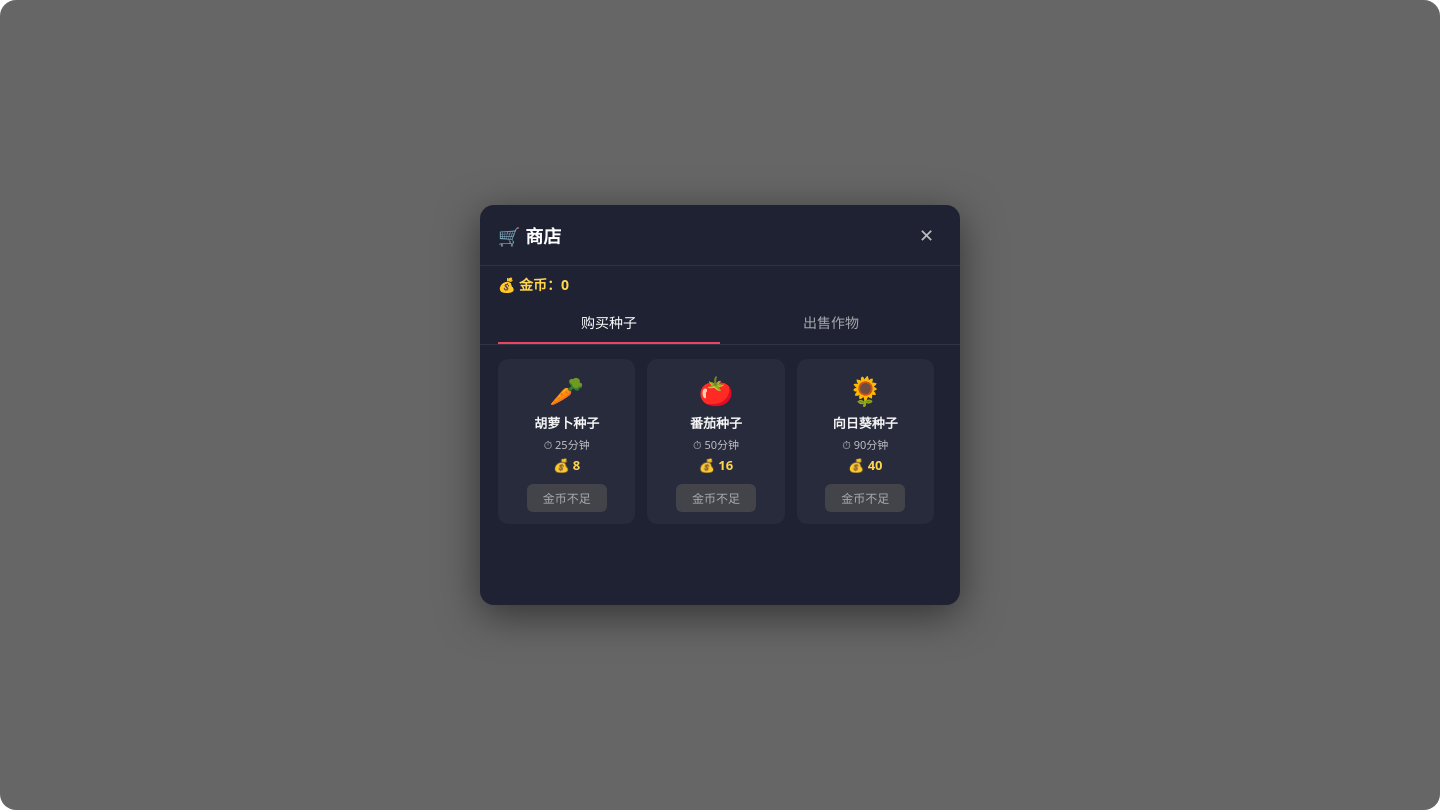
GardenShop.vue › 出售 tab 应列出拥有的作物
This screenshot has width=1440, height=810.
Click the button with class "shop-tab" showing "出售作物" at [831, 323], box [720, 302, 942, 344]
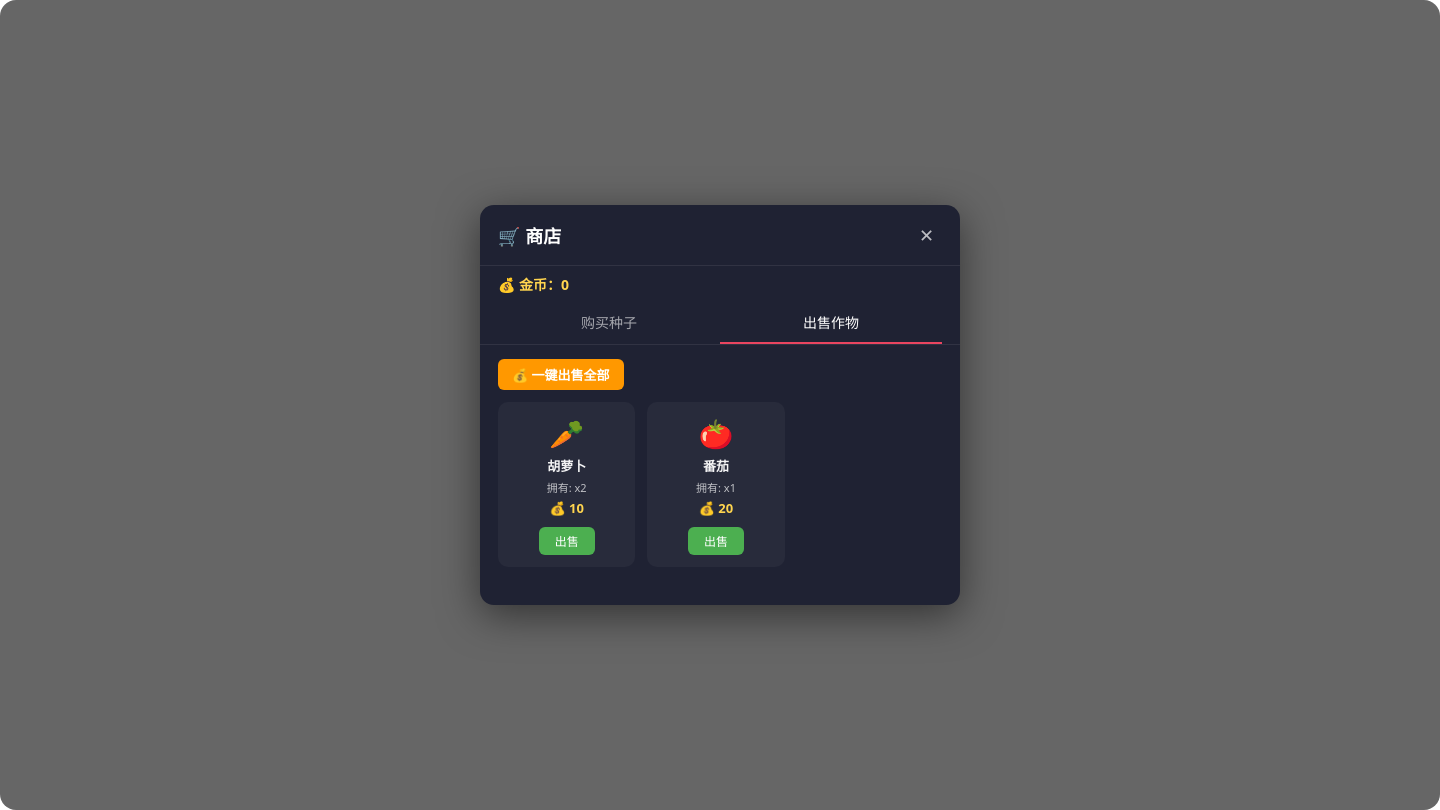
Now the number of elements with class "shop-item" is 2, box [498, 402, 635, 567]; [647, 402, 785, 567]
Now the element with class "shop-item" showing "🥕 胡萝卜 拥有: x2 💰 10 出售" is shown, box [498, 402, 635, 567]
Now the text with class "shop-item__info" shows "x2", box [547, 480, 587, 495]
